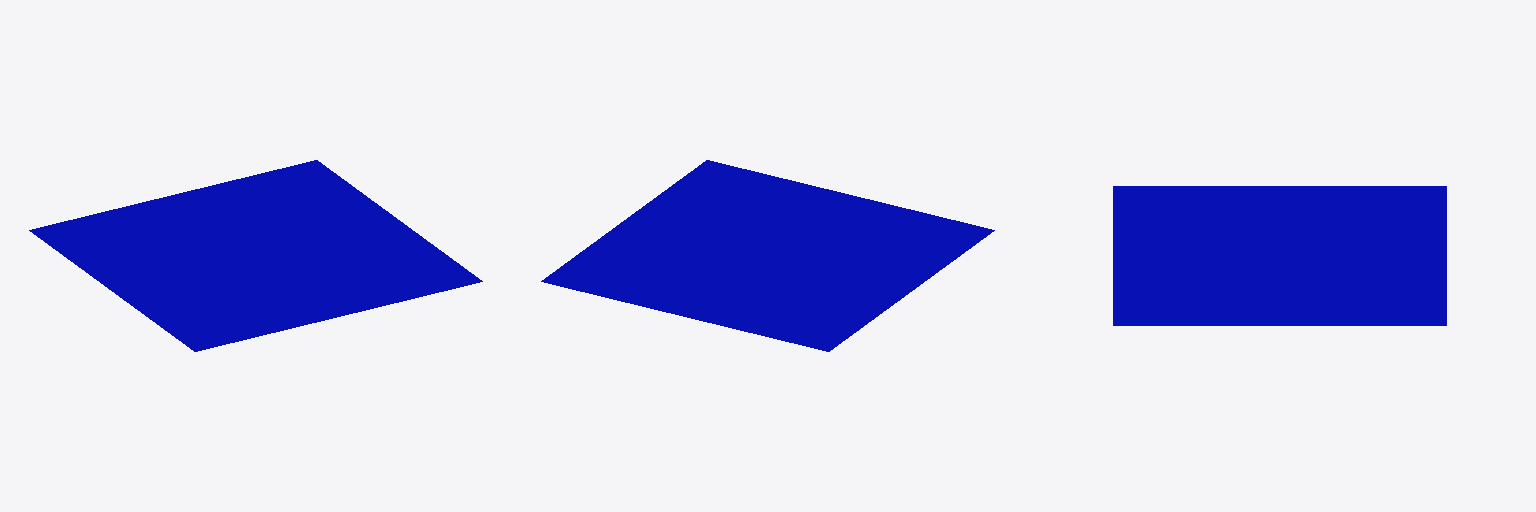
Rendered from ocean.obj.
The picture shows the model from 3 angles: view 1: azimuth 30°, elevation 25°; view 2: azimuth 150°, elevation 25°; view 3: azimuth 270°, elevation 25°; orthographic projection.
Parts seen in each view (by area): view 1: Ocean_Grid.004; view 2: Ocean_Grid.004; view 3: Ocean_Grid.004.
Part boxes in pixels (left/top/right/bottom): Ocean_Grid.004: left=29, top=160, right=482, bottom=351; Ocean_Grid.004: left=541, top=160, right=994, bottom=351; Ocean_Grid.004: left=1113, top=186, right=1446, bottom=325.
Size of the model in its own units: 1200 by 0 by 1200.